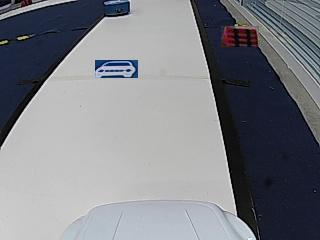prop: (104, 1, 131, 17)
